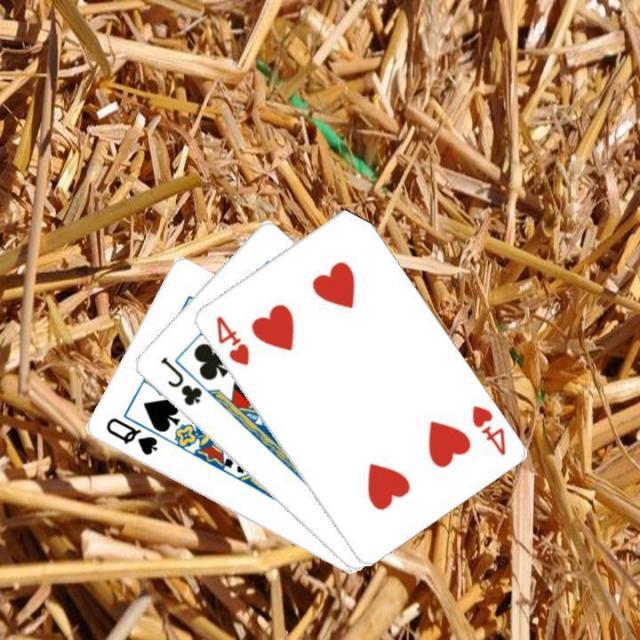4H: (467, 401, 508, 457), (211, 311, 251, 367)
JC: (156, 353, 204, 408)
QS: (101, 413, 159, 457)
